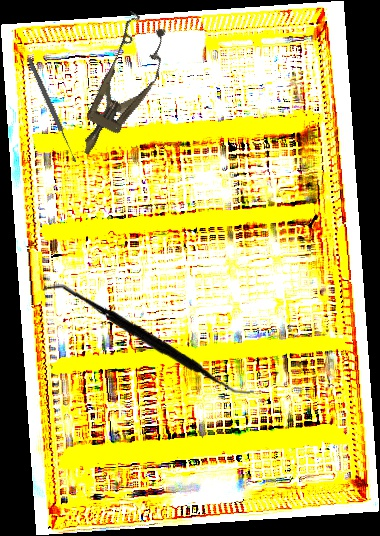Spatula Surgical: (42, 277, 255, 404)
Speculum: (61, 10, 180, 167)
Surgical Spoon: (26, 56, 78, 164)
